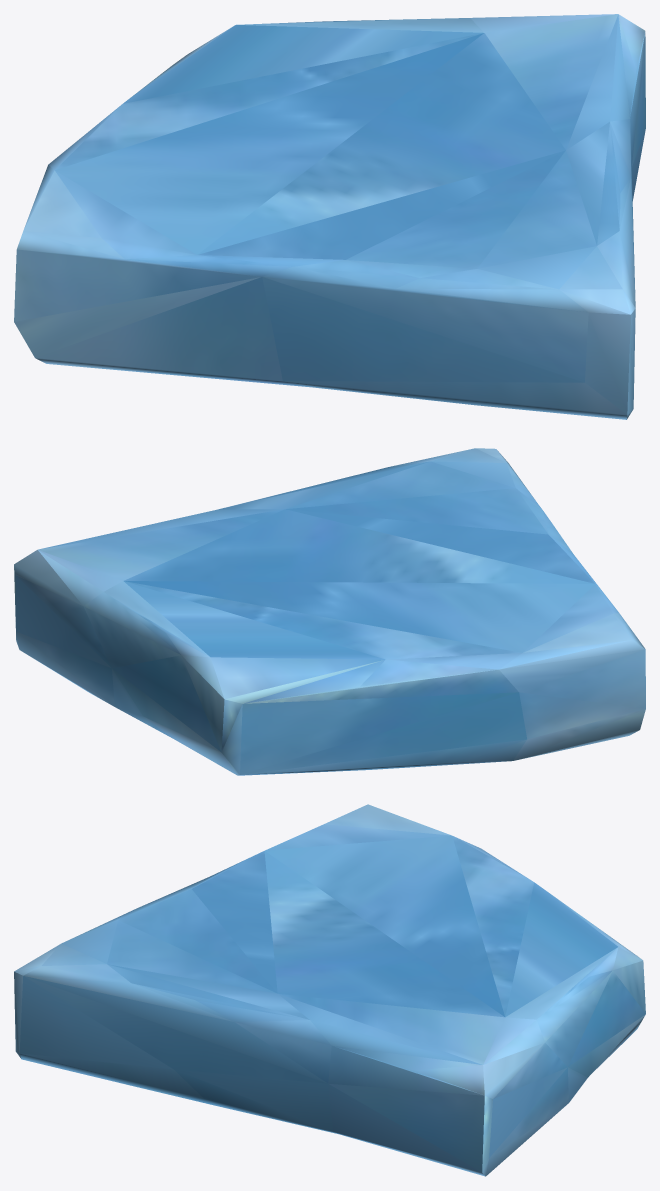
The model's file is placa_hielo_rota_1.glb.
3 renders of one model, top to bottom at view 1: azimuth 30°, elevation 25°; view 2: azimuth 150°, elevation 25°; view 3: azimuth 270°, elevation 25°, orthographic. The views are drawn at different scales.
Parts seen in each view (by area): view 1: placa_hielo_rota_1_malla; view 2: placa_hielo_rota_1_malla; view 3: placa_hielo_rota_1_malla.
Boxes of the visible parts, x1,y1,x2,y2 form: placa_hielo_rota_1_malla: [14, 14, 645, 419]; placa_hielo_rota_1_malla: [14, 448, 645, 775]; placa_hielo_rota_1_malla: [14, 804, 645, 1176].
Bounding box in the file's own units: 0.1537 × 0.0277 × 0.1474.
Materials: 1 (1 with a texture image).
